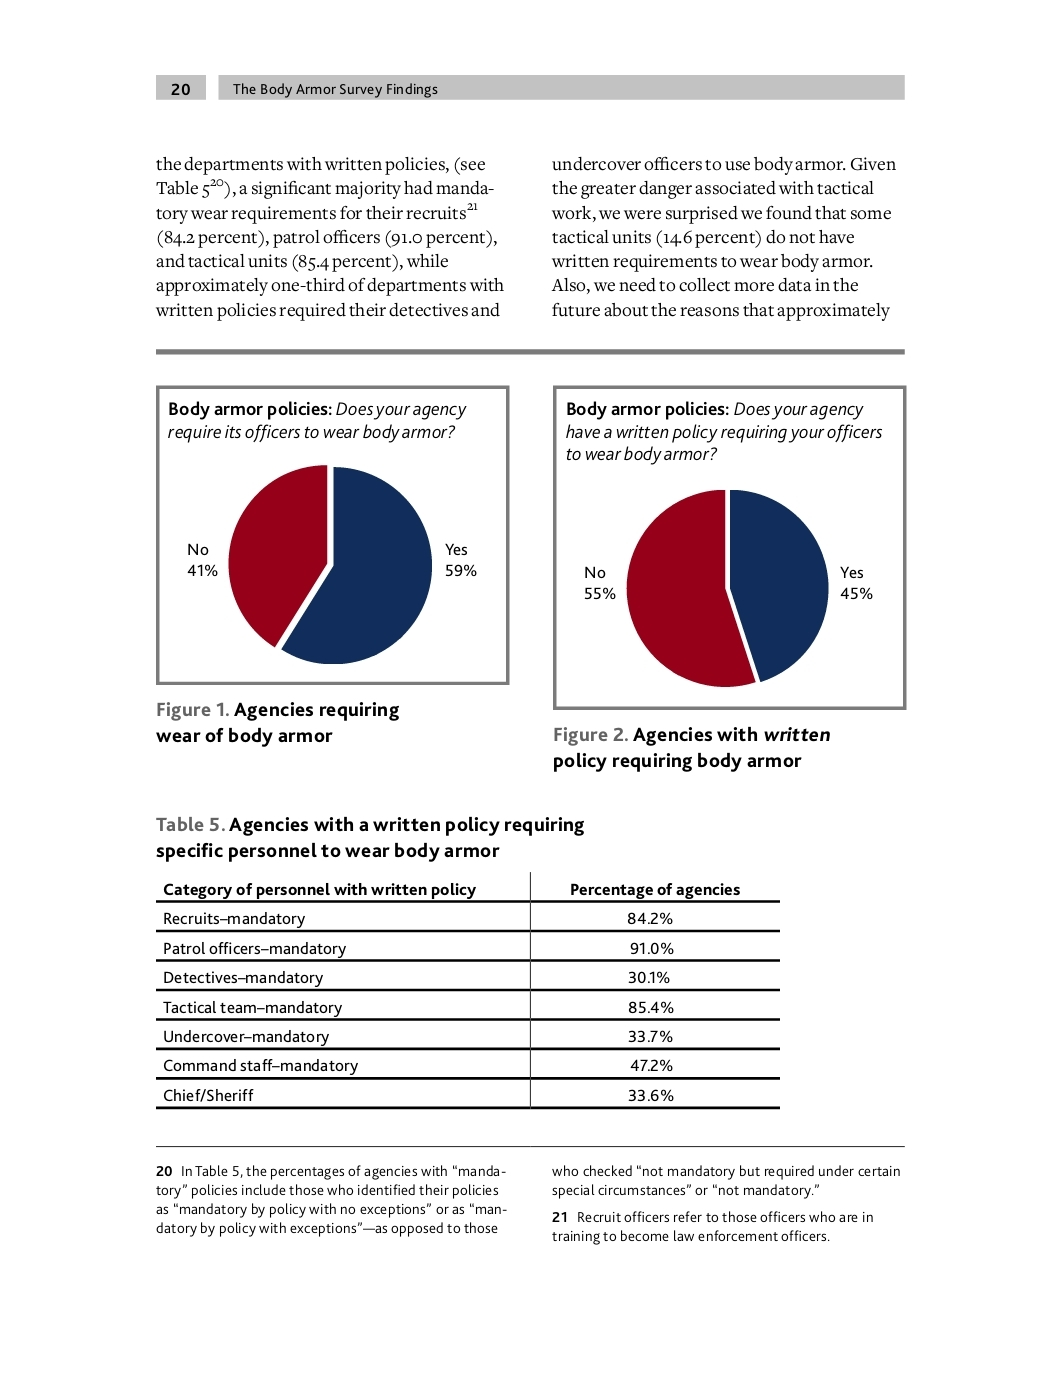Table: (156, 871, 779, 1110)
figure: (553, 384, 906, 710), (156, 384, 509, 685), (156, 75, 904, 99)
